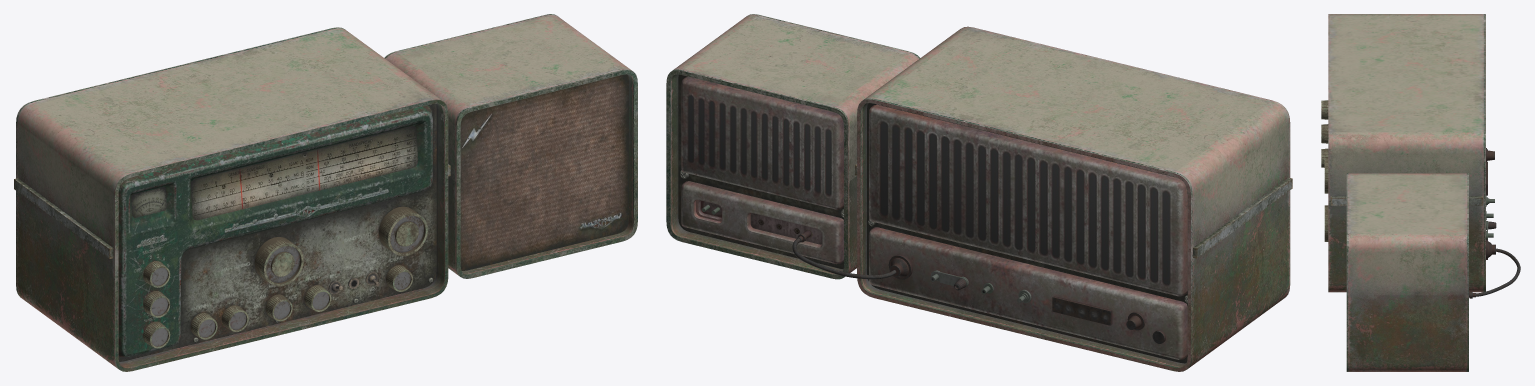
File: obj_national_nc_109_receiver_c7efb3.glb
3 renders of one model, left to right at view 1: azimuth 30°, elevation 25°; view 2: azimuth 150°, elevation 25°; view 3: azimuth 270°, elevation 25°, orthographic. The views are drawn at different scales.
Parts seen in each view (by area): view 1: obj_national_nc_109_receiver_c7efb3; view 2: obj_national_nc_109_receiver_c7efb3; view 3: obj_national_nc_109_receiver_c7efb3.
Boxes of the visible parts, left/top/right/bottom form: obj_national_nc_109_receiver_c7efb3: left=14, top=14, right=637, bottom=371; obj_national_nc_109_receiver_c7efb3: left=666, top=14, right=1292, bottom=371; obj_national_nc_109_receiver_c7efb3: left=1321, top=14, right=1520, bottom=371.
Bounding box in the file's own units: 0.35 × 0.129 × 0.1408.
Materials: 2 (2 with a texture image).
